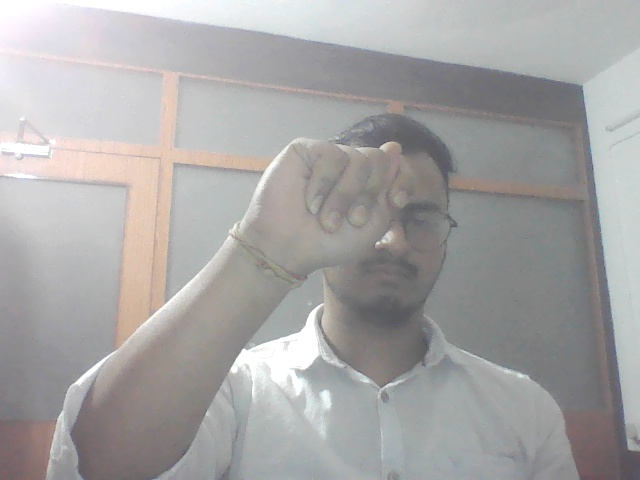Toilet: (253, 133, 424, 284)
